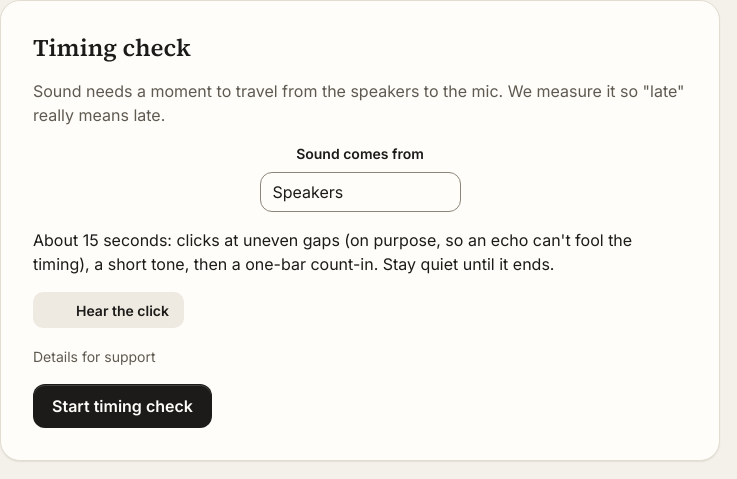
it: CalibrationCard › a thrown run reads as a failure with a retry
This screenshot has width=737, height=479.
Click the button "Start timing check" at (122, 406), box [33,384,212,428]
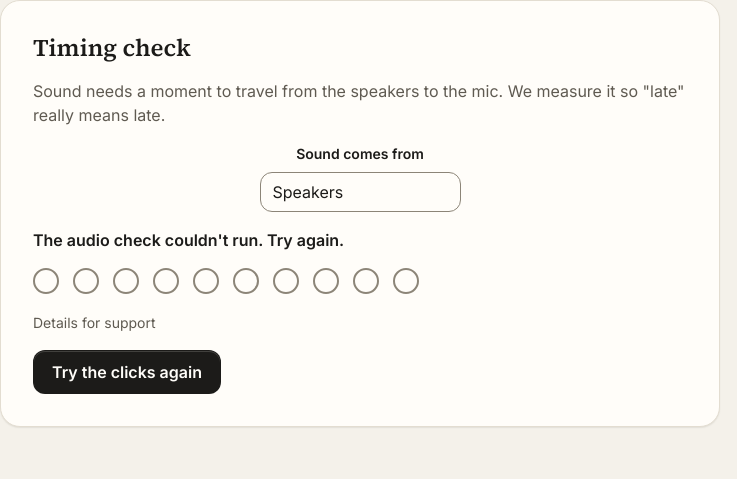
expect the text "The audio check couldn't run. Try again." is shown: met, box [33,230,344,250]
